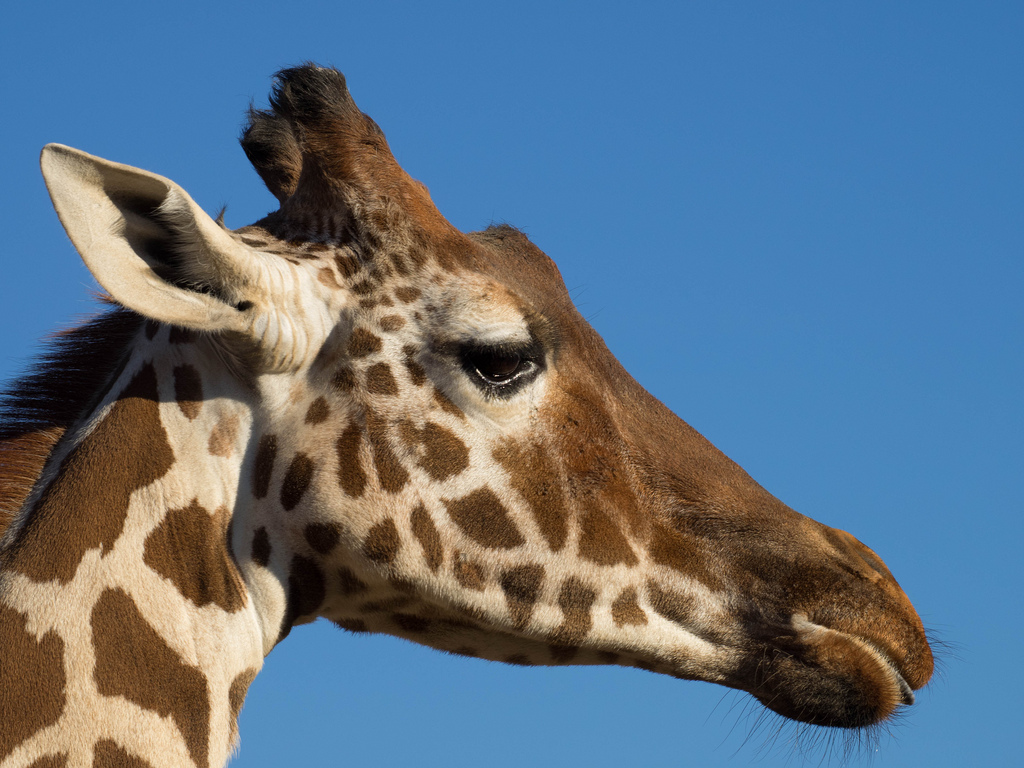giraffe: (28, 58, 970, 752)
